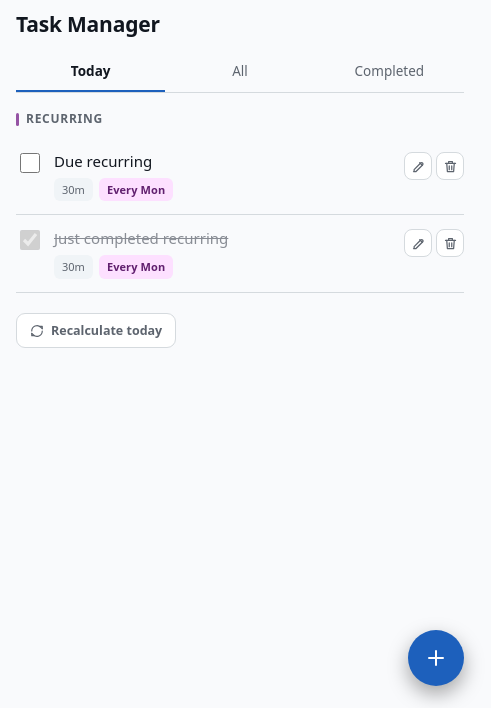
Scenario: the All tab lists every recurring task regardless of due-ness or completion (11.1) › lists a due recurring task, an at-rest one, and one completed moments ago
Check: the button named "Add a task" is shown, box 408,630 -> 464,686
Click the button "All": (240, 73) 165,53 -> 315,92
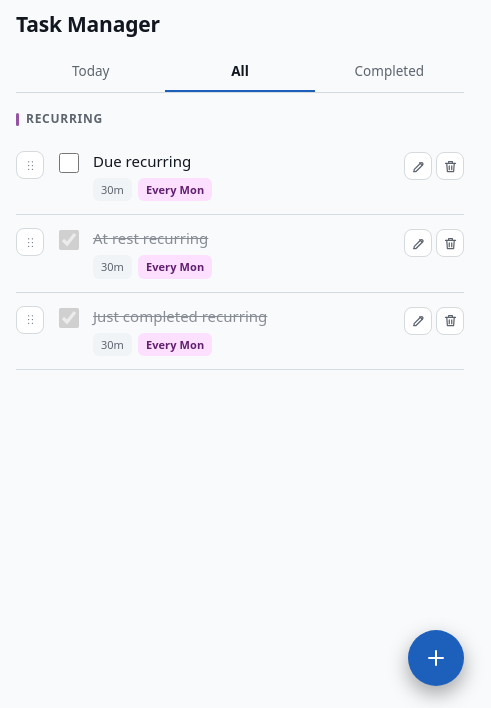
Check: the text "Due recurring" is shown, box 93,151 -> 191,171
Check: the text "At rest recurring" is shown, box 93,228 -> 208,248
